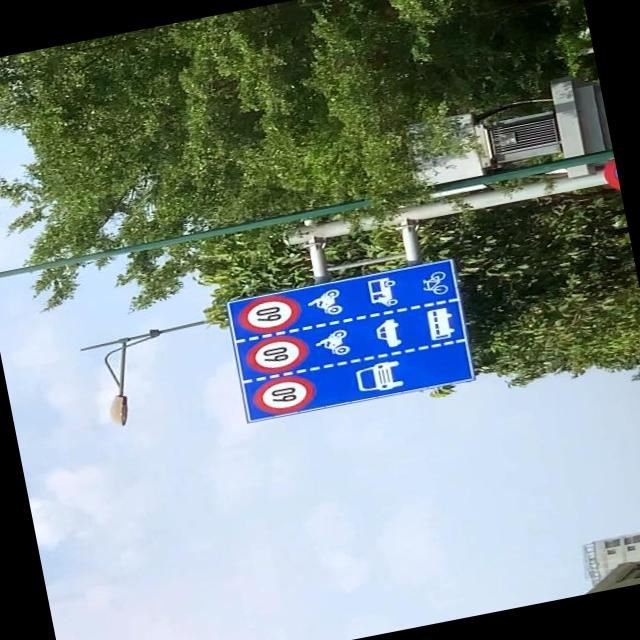P-127c: (228, 258, 472, 422)
